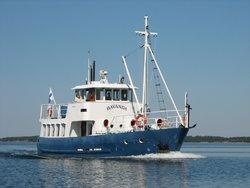otherboat: (37, 60, 197, 159)
